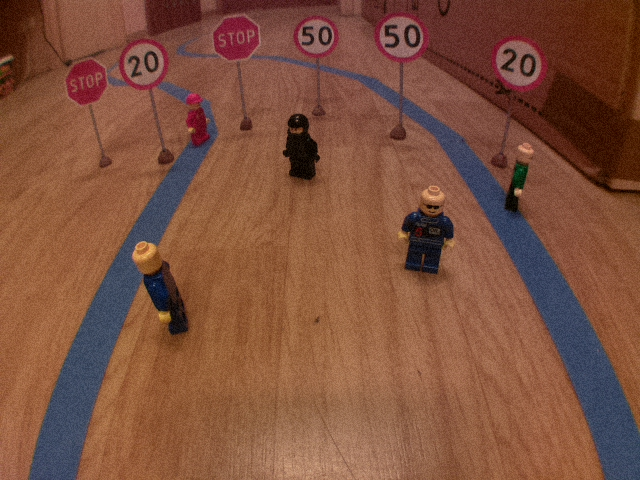LEGO_person: (127, 237, 199, 338), (395, 180, 462, 281), (499, 140, 537, 218), (179, 91, 212, 147)
ogr_20: (487, 33, 553, 95), (115, 34, 172, 91)
ogr_50: (370, 9, 431, 64), (291, 14, 340, 60)
stop: (207, 11, 265, 64), (62, 55, 112, 107)
